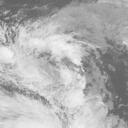cyclone: (21, 32, 90, 100)
